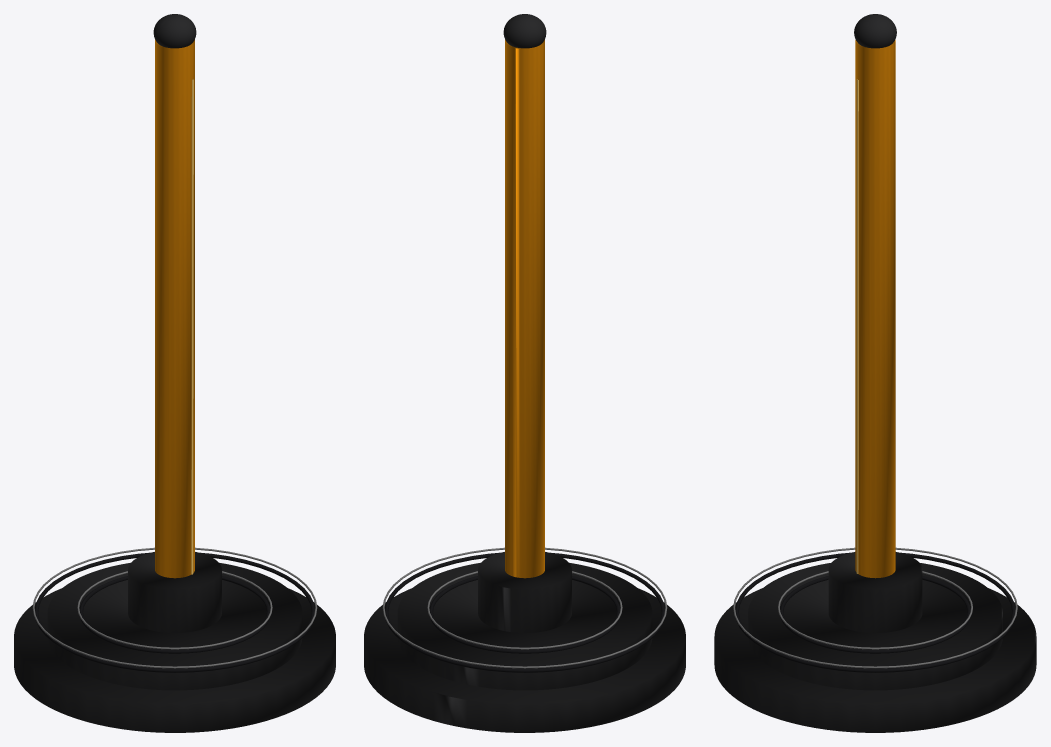
File: Slalomstange_mit_Rundfuss_3D.glb
3 renders of one model, left to right at view 1: azimuth 30°, elevation 25°; view 2: azimuth 150°, elevation 25°; view 3: azimuth 270°, elevation 25°, orthographic.
Visible parts, largest first — view 1: Slalomstange_mit_Rundfuss_3D__web_black_rubber_slalom_round_, Slalomstange_mit_Rundfuss_3D__web_glossy_orange_slalom_pole_, Slalomstange_mit_Rundfuss_3D__web_dark_recessed_circular_gro, Slalomstange_mit_Rundfuss_3D__web_soft_grey_highlight_rings_, Slalomstange_mit_Rundfuss_3D__web_lighter_orange_vertical_hi; view 2: Slalomstange_mit_Rundfuss_3D__web_black_rubber_slalom_round_, Slalomstange_mit_Rundfuss_3D__web_glossy_orange_slalom_pole_, Slalomstange_mit_Rundfuss_3D__web_dark_recessed_circular_gro, Slalomstange_mit_Rundfuss_3D__web_soft_grey_highlight_rings_; view 3: Slalomstange_mit_Rundfuss_3D__web_black_rubber_slalom_round_, Slalomstange_mit_Rundfuss_3D__web_glossy_orange_slalom_pole_, Slalomstange_mit_Rundfuss_3D__web_dark_recessed_circular_gro, Slalomstange_mit_Rundfuss_3D__web_soft_grey_highlight_rings_, Slalomstange_mit_Rundfuss_3D__web_lighter_orange_vertical_hi.
Part boxes in pixels (<box>): Slalomstange_mit_Rundfuss_3D__web_black_rubber_slalom_round_: <box>14,14,335,732</box>; Slalomstange_mit_Rundfuss_3D__web_glossy_orange_slalom_pole_: <box>155,39,194,578</box>; Slalomstange_mit_Rundfuss_3D__web_dark_recessed_circular_gro: <box>35,552,314,672</box>; Slalomstange_mit_Rundfuss_3D__web_soft_grey_highlight_rings_: <box>32,547,317,668</box>; Slalomstange_mit_Rundfuss_3D__web_lighter_orange_vertical_hi: <box>191,79,193,574</box>; Slalomstange_mit_Rundfuss_3D__web_black_rubber_slalom_round_: <box>364,14,685,732</box>; Slalomstange_mit_Rundfuss_3D__web_glossy_orange_slalom_pole_: <box>505,39,544,578</box>; Slalomstange_mit_Rundfuss_3D__web_dark_recessed_circular_gro: <box>385,552,664,672</box>; Slalomstange_mit_Rundfuss_3D__web_soft_grey_highlight_rings_: <box>382,547,667,668</box>; Slalomstange_mit_Rundfuss_3D__web_black_rubber_slalom_round_: <box>714,14,1036,732</box>; Slalomstange_mit_Rundfuss_3D__web_glossy_orange_slalom_pole_: <box>855,40,895,578</box>; Slalomstange_mit_Rundfuss_3D__web_dark_recessed_circular_gro: <box>735,552,1015,672</box>; Slalomstange_mit_Rundfuss_3D__web_soft_grey_highlight_rings_: <box>733,547,1017,668</box>; Slalomstange_mit_Rundfuss_3D__web_lighter_orange_vertical_hi: <box>856,79,858,573</box>.
Bounding box in the file's own units: 0.72 × 1.6 × 0.72.
